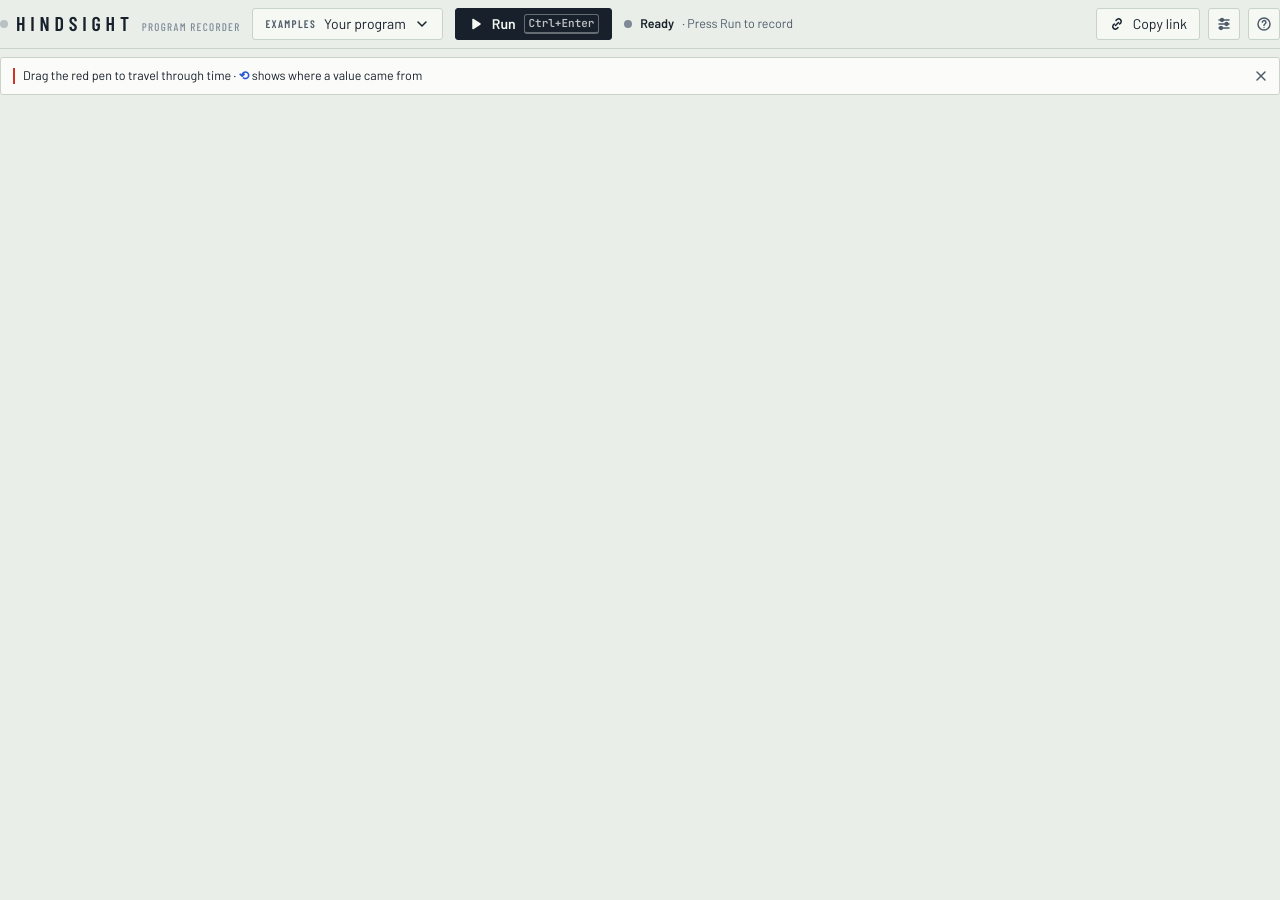
Test: Header › a program too long for a link says so
The width and height of the screenshot is (1280, 900).
Click the button with aria-label "Copy a link" at point(1148, 24), box [1096,8,1200,40]
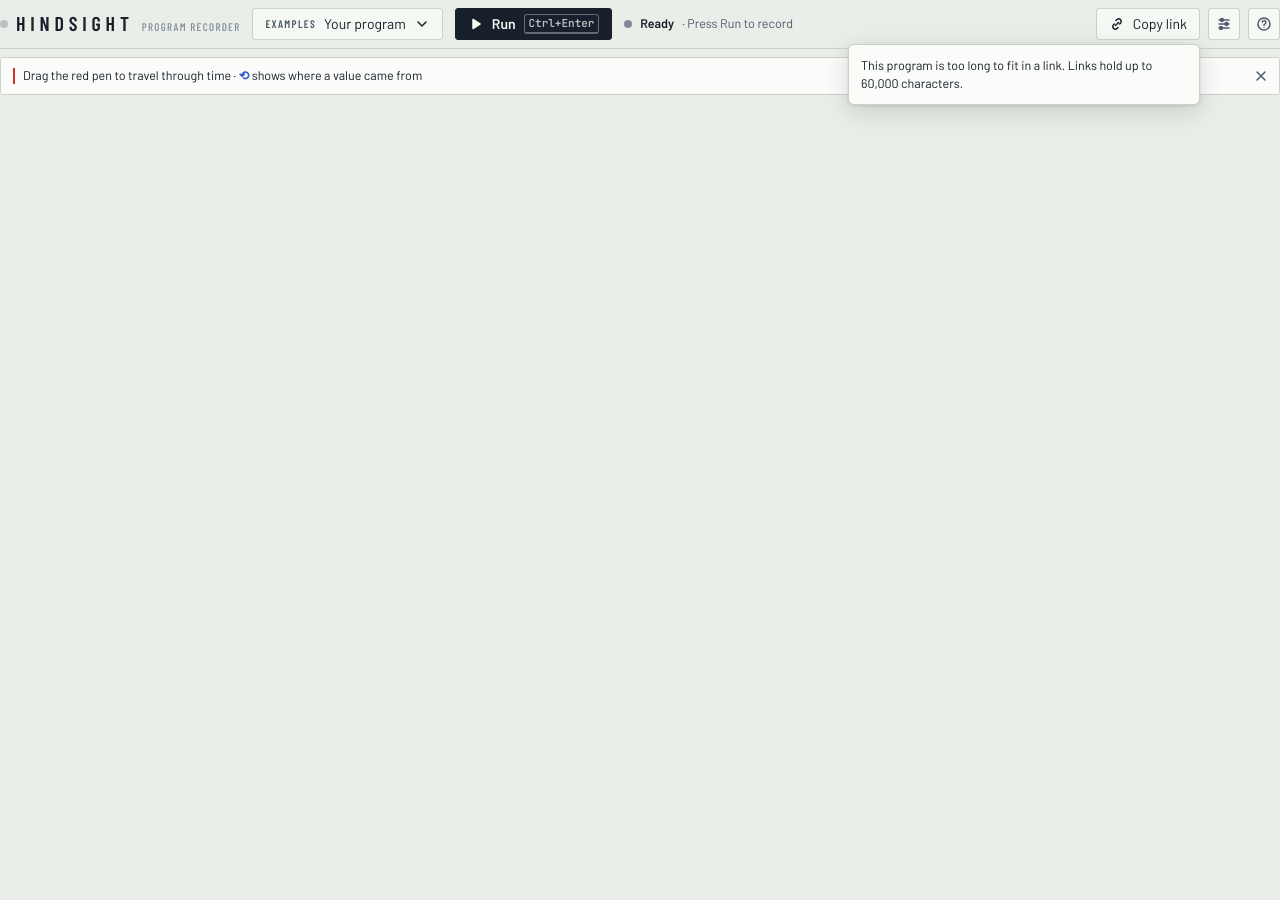
expect the text "too long to fit in a link" is shown: met, box [861,57,1152,73]
